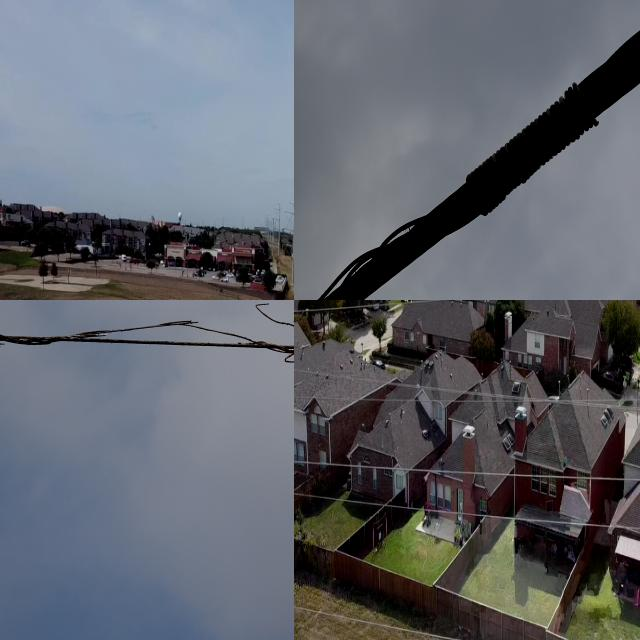电缆破损: (294, 54, 612, 300), (0, 300, 294, 398)
